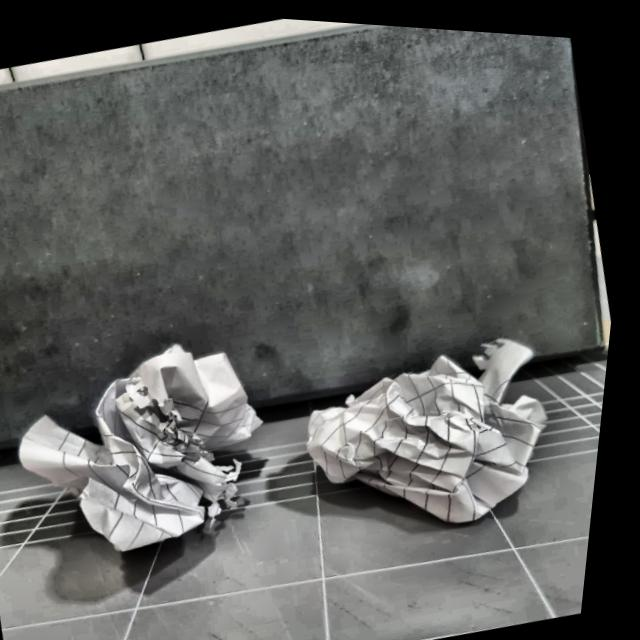Paper: (287, 299, 589, 556), (5, 322, 296, 578)
